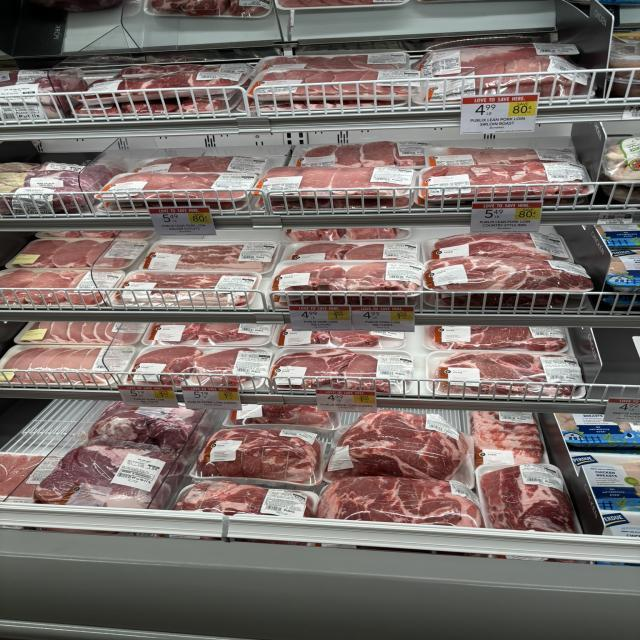Meat -Red-: (327, 410, 473, 488), (413, 42, 593, 105), (33, 440, 177, 509), (317, 476, 483, 528), (418, 161, 595, 204), (427, 351, 585, 399), (475, 464, 578, 532), (272, 260, 423, 305), (257, 166, 415, 208), (197, 429, 322, 482), (128, 346, 273, 390), (272, 349, 413, 394), (95, 172, 257, 209), (425, 256, 593, 291), (88, 401, 202, 452), (0, 345, 135, 388), (80, 71, 247, 105), (248, 69, 420, 101), (173, 481, 318, 518), (115, 271, 260, 308), (0, 270, 125, 309), (73, 92, 242, 118), (142, 240, 278, 272), (470, 411, 547, 466), (427, 232, 573, 261), (8, 239, 148, 269), (423, 326, 568, 352), (297, 141, 430, 168), (255, 51, 410, 73), (273, 324, 405, 349), (15, 321, 148, 345), (143, 322, 273, 346), (425, 148, 578, 166), (283, 241, 420, 261), (0, 185, 87, 214), (133, 156, 267, 174), (0, 142, 100, 165), (0, 170, 100, 191), (0, 68, 87, 91), (283, 228, 410, 241)
